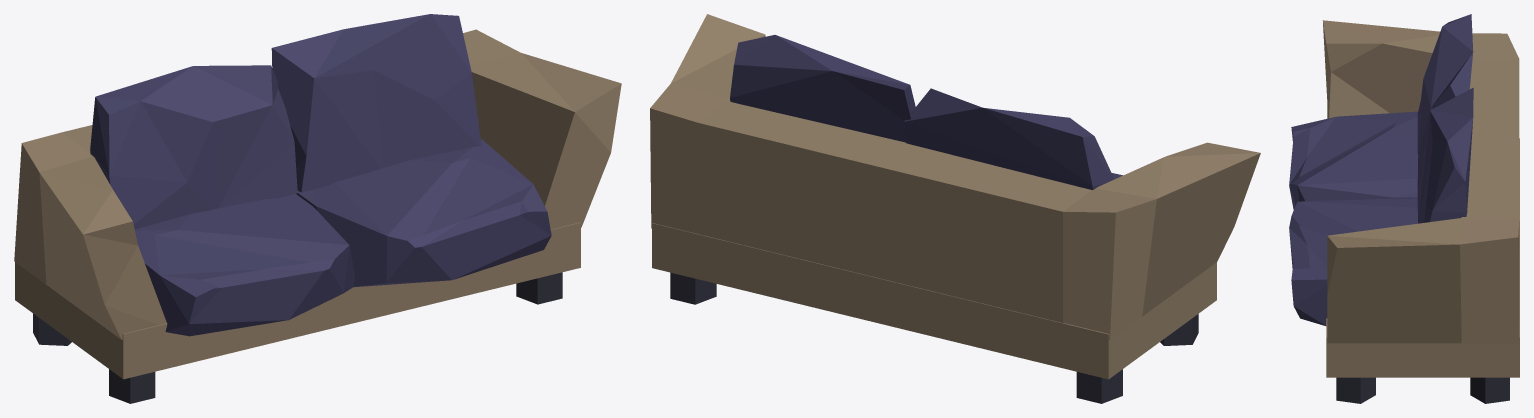
Rendered from canape2.fbx.
The picture shows the model from 3 angles, left to right: view 1: azimuth 30°, elevation 25°; view 2: azimuth 150°, elevation 25°; view 3: azimuth 270°, elevation 25°; orthographic projection. The views are drawn at different scales.
Visible parts, largest first — view 1: Cube.011; view 2: Cube.011; view 3: Cube.011.
Boxes of the visible parts, x1,y1,x2,y2 form: Cube.011: [14, 14, 621, 403]; Cube.011: [650, 14, 1260, 403]; Cube.011: [1289, 14, 1519, 403].
Bounding box in the file's own units: 493 × 221 × 202.
